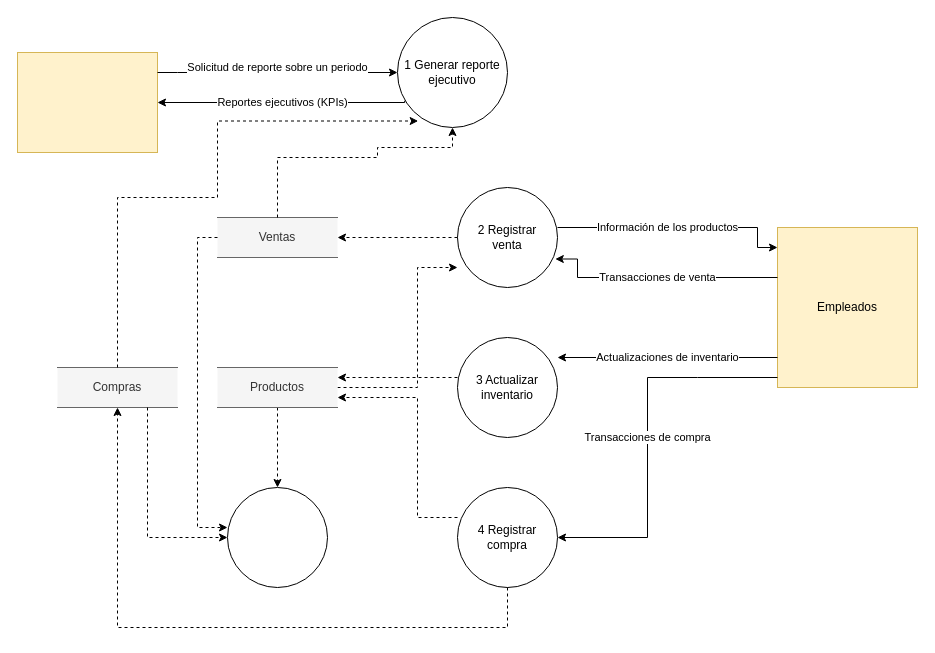
Some shapes in this 935 by 653 pixel diagram are drawn without their labels. The centre of each missing label's shape, as x and y in pixels:
5 Realizar corte de caja: point 277,537
Dueños del negocio: point 87,102
